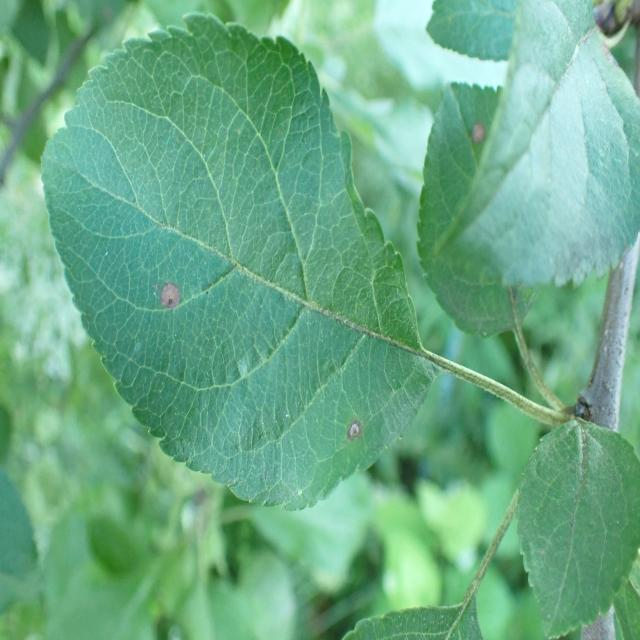Black Rot: (143, 245, 191, 331), (458, 102, 503, 183), (320, 400, 380, 456)
